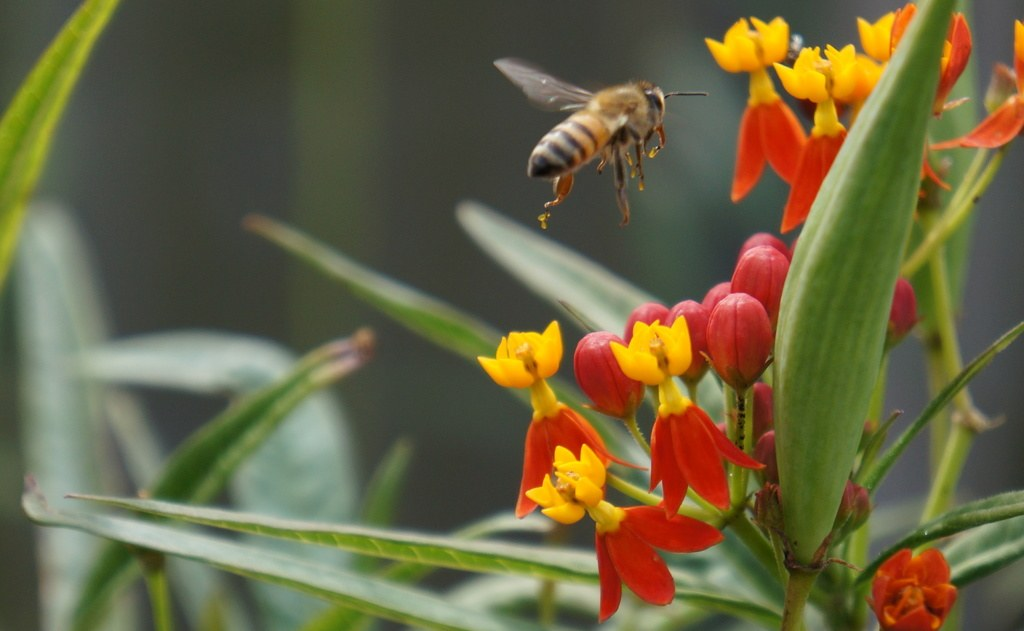bee: (492, 47, 712, 229)
insect: (701, 3, 1023, 235), (520, 447, 730, 630), (483, 320, 646, 523), (607, 316, 764, 515), (867, 546, 963, 630)
